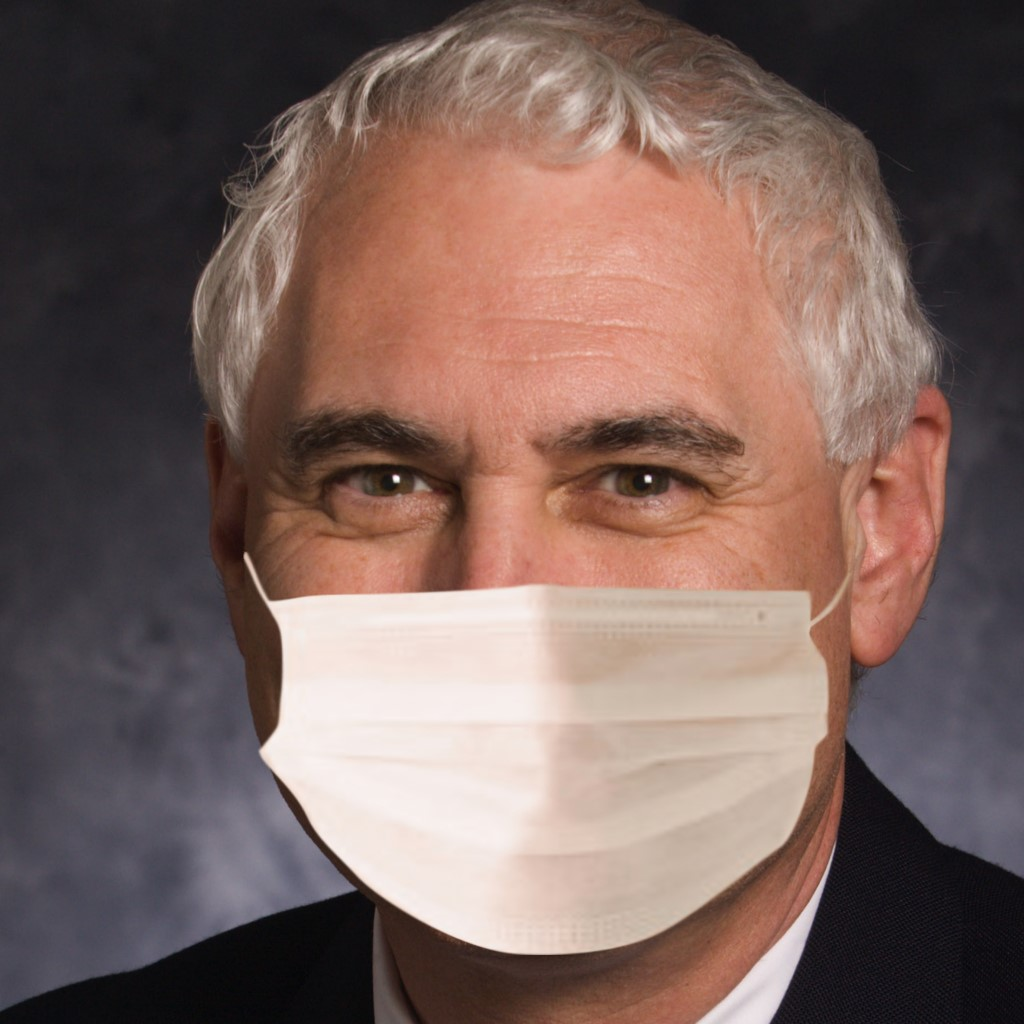con_mascara: (224, 140, 890, 937)
